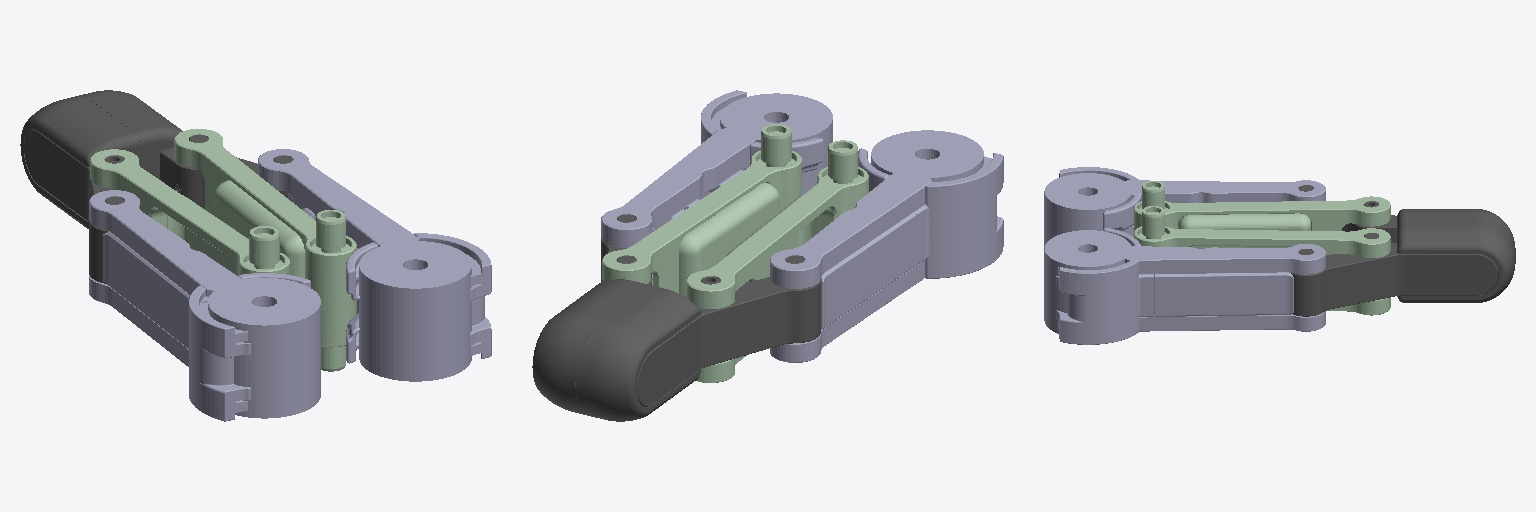
URDF robot description (ur5_rg2):
<?xml version="1.0" ?>
<!-- =================================================================================== -->
<!-- |    This document was autogenerated by xacro from ur.urdf.xacro                  | -->
<!-- |    EDITING THIS FILE BY HAND IS NOT RECOMMENDED                                 | -->
<!-- =================================================================================== -->
<robot name="ur5_rg2">
  <link name="base_link">
    <inertial>
      <mass value="0.0"/>
      <origin rpy="0 0 0" xyz="0 0 0"/>
      <inertia ixx="0.0" ixy="0.0" ixz="0.0" iyy="0.0" iyz="0.0" izz="0.0"/>
    </inertial>
  </link>
  <link name="base_link_inertia">
    <visual>
      <origin rpy="0 0 3.141592653589793" xyz="0 0 0"/>
      <geometry>
        <mesh filename="meshes/ur5/visual/base.obj"/>
      </geometry>
      <material name="LightGrey">
        <color rgba="0.7 0.7 0.7 1.0"/>
      </material>
    </visual>
    <collision>
      <origin rpy="0 0 3.141592653589793" xyz="0 0 0"/>
      <geometry>
        <mesh filename="meshes/ur5/collision/base.obj"/>
      </geometry>
    </collision>
    <inertial>
      <mass value="4.0"/>
      <origin rpy="0 0 0" xyz="0 0 0"/>
      <inertia ixx="0.00443333156" ixy="0.0" ixz="0.0" iyy="0.00443333156" iyz="0.0" izz="0.0072"/>
    </inertial>
  </link>
  <link name="shoulder_link">
    <visual>
      <origin rpy="0 0 3.141592653589793" xyz="0 0 0"/>
      <geometry>
        <mesh filename="meshes/ur5/visual/shoulder.obj"/>
      </geometry>
      <material name="LightBlue">
        <color rgba="0.7 0.7 0.8 1.0"/>
      </material>
    </visual>
    <collision>
      <origin rpy="0 0 3.141592653589793" xyz="0 0 0"/>
      <geometry>
        <mesh filename="meshes/ur5/collision/shoulder.obj"/>
      </geometry>
    </collision>
    <inertial>
      <mass value="3.7"/>
      <origin rpy="0 0 0" xyz="0 0 0"/>
      <inertia ixx="0.014972352344389999" ixy="0.0" ixz="0.0" iyy="0.014972352344389999" iyz="0.0" izz="0.01040625"/>
    </inertial>
  </link>
  <link name="upper_arm_link">
    <visual>
      <origin rpy="1.5707963267948966 0 -1.5707963267948966" xyz="0 0 0.13585"/>
      <geometry>
        <mesh filename="meshes/ur5/visual/upperarm.obj"/>
      </geometry>
      <material name="LightGreen">
        <color rgba="0.7 0.8 0.7 1.0"/>
      </material>
    </visual>
    <collision>
      <origin rpy="1.5707963267948966 0 -1.5707963267948966" xyz="0 0 0.13585"/>
      <geometry>
        <mesh filename="meshes/ur5/collision/upperarm.obj"/>
      </geometry>
    </collision>
    <inertial>
      <mass value="8.393"/>
      <origin rpy="0 1.5707963267948966 0" xyz="-0.2125 0.0 0.136"/>
      <inertia ixx="0.1338857818623325" ixy="0.0" ixz="0.0" iyy="0.1338857818623325" iyz="0.0" izz="0.0151074"/>
    </inertial>
  </link>
  <link name="forearm_link">
    <visual>
      <origin rpy="1.5707963267948966 0 -1.5707963267948966" xyz="0 0 0.0165"/>
      <geometry>
        <mesh filename="meshes/ur5/visual/forearm.obj"/>
      </geometry>
      <material name="LightRed">
        <color rgba="0.8 0.7 0.7 1.0"/>
      </material>
    </visual>
    <collision>
      <origin rpy="1.5707963267948966 0 -1.5707963267948966" xyz="0 0 0.0165"/>
      <geometry>
        <mesh filename="meshes/ur5/collision/forearm.obj"/>
      </geometry>
    </collision>
    <inertial>
      <mass value="2.275"/>
      <origin rpy="0 1.5707963267948966 0" xyz="-0.196125 0.0 0.0165"/>
      <inertia ixx="0.03121679102890359" ixy="0.0" ixz="0.0" iyy="0.03121679102890359" iyz="0.0" izz="0.004095"/>
    </inertial>
  </link>
  <link name="wrist_1_link">
    <visual>
      <origin rpy="1.5707963267948966 0 0" xyz="0 0 -0.093"/>
      <geometry>
        <mesh filename="meshes/ur5/visual/wrist1.obj"/>
      </geometry>
      <material name="LightGrey">
        <color rgba="0.7 0.7 0.7 1.0"/>
      </material>
    </visual>
    <collision>
      <origin rpy="1.5707963267948966 0 0" xyz="0 0 -0.093"/>
      <geometry>
        <mesh filename="meshes/ur5/collision/wrist1.obj"/>
      </geometry>
    </collision>
    <inertial>
      <mass value="1.219"/>
      <origin rpy="0 0 0" xyz="0 0 0"/>
      <inertia ixx="0.0020138887777775" ixy="0.0" ixz="0.0" iyy="0.0020138887777775" iyz="0.0" izz="0.0021942"/>
    </inertial>
  </link>
  <link name="wrist_2_link">
    <visual>
      <origin rpy="0 0 0" xyz="0 0 -0.095"/>
      <geometry>
        <mesh filename="meshes/ur5/visual/wrist2.obj"/>
      </geometry>
      <material name="LightBlue">
        <color rgba="0.7 0.7 0.8 1.0"/>
      </material>
    </visual>
    <collision>
      <origin rpy="0 0 0" xyz="0 0 -0.095"/>
      <geometry>
        <mesh filename="meshes/ur5/collision/wrist2.obj"/>
      </geometry>
    </collision>
    <inertial>
      <mass value="1.219"/>
      <origin rpy="0 0 0" xyz="0 0 0"/>
      <inertia ixx="0.0018310388509175" ixy="0.0" ixz="0.0" iyy="0.0018310388509175" iyz="0.0" izz="0.0021942"/>
    </inertial>
  </link>
  <link name="wrist_3_link">
    <visual>
      <origin rpy="1.5707963267948966 0 0" xyz="0 0 -0.0818"/>
      <geometry>
        <mesh filename="meshes/ur5/visual/wrist3.obj"/>
      </geometry>
      <material name="LightGreen">
        <color rgba="0.7 0.8 0.7 1.0"/>
      </material>
    </visual>
    <collision>
      <origin rpy="1.5707963267948966 0 0" xyz="0 0 -0.0818"/>
      <geometry>
        <mesh filename="meshes/ur5/collision/wrist3.obj"/>
      </geometry>
    </collision>
    <inertial>
      <mass value="0.1879"/>
      <origin rpy="0 0 0" xyz="0.0 0.0 -0.01525"/>
      <inertia ixx="8.062472608343e-05" ixy="0.0" ixz="0.0" iyy="8.062472608343e-05" iyz="0.0" izz="0.0001321171875"/>
    </inertial>
  </link>
  <!-- Gripper Links -->
  <material name="silver_default">
    <color rgba="0.700 0.700 0.700 1.000"/>
  </material>
  <material name="blue_default">
    <color rgba="0.700 0.700 0.800 1.000"/>
  </material>
  <material name="dark_default">
    <color rgba="0.400 0.400 0.400 1.000"/>
  </material>
  <material name="green_default">
    <color rgba="0.700 0.800 0.700 1.000"/>
  </material>
  <link name="base_link_rg2">
    <inertial>
      <origin rpy="0 0 0" xyz="-0.00033928396113482284 0.0001550803374992693 0.06397335096404132"/>
      <mass value="0.7151802197889529"/>
      <inertia ixx="0.001268" ixy="0.0" ixz="-1.2e-05" iyy="0.001154" iyz="3e-06" izz="0.000357"/>
    </inertial>
    <visual>
      <origin rpy="0 0 0" xyz="0 0 0"/>
      <geometry>
        <mesh filename="meshes/rg2_gripper/base_link.obj" scale="0.001 0.001 0.001"/>
      </geometry>
      <material name="silver_default"/>
    </visual>
    <collision>
      <origin rpy="0 0 0" xyz="0 0 0"/>
      <geometry>
        <mesh filename="meshes/rg2_gripper/base_link.obj" scale="0.001 0.001 0.001"/>
      </geometry>
    </collision>
  </link>
  <link name="left_outer_link_1">
    <inertial>
      <origin rpy="0 0 0" xyz="0.009999996523330909 0.0017814726549052681 0.012228209292930586"/>
      <mass value="0.03836739327168093"/>
      <inertia ixx="1.4e-05" ixy="0.0" ixz="0.0" iyy="1.4e-05" iyz="-0.0" izz="3e-06"/>
    </inertial>
    <visual>
      <origin rpy="0 0 0" xyz="0.0103 -0.01705 -0.12275"/>
      <geometry>
        <mesh filename="meshes/rg2_gripper/left_outer_link_1.obj" scale="0.001 0.001 0.001"/>
      </geometry>
      <material name="blue_default"/>
    </visual>
    <collision>
      <origin rpy="0 0 0" xyz="0.0103 -0.01705 -0.12275"/>
      <geometry>
        <mesh filename="meshes/rg2_gripper/left_outer_link_1.obj" scale="0.001 0.001 0.001"/>
      </geometry>
    </collision>
  </link>
  <link name="left_finger_link_1">
    <inertial>
      <origin rpy="0 0 0" xyz="0.010012780774690653 -0.010687647568749598 0.027402616106703998"/>
      <mass value="0.02483517715757534"/>
      <inertia ixx="7e-06" ixy="-0.0" ixz="0.0" iyy="6e-06" iyz="2e-06" izz="1e-06"/>
    </inertial>
    <visual>
      <origin rpy="0 0 0" xyz="0.0103 -0.01902 -0.177715"/>
      <geometry>
        <mesh filename="meshes/rg2_gripper/left_finger_link_1.obj" scale="0.001 0.001 0.001"/>
      </geometry>
      <material name="dark_default"/>
    </visual>
    <collision>
      <origin rpy="0 0 0" xyz="0.0103 -0.01902 -0.177715"/>
      <geometry>
        <mesh filename="meshes/rg2_gripper/left_finger_link_1.obj" scale="0.001 0.001 0.001"/>
      </geometry>
    </collision>
  </link>
  <link name="left_inner_link_1">
    <inertial>
      <origin rpy="0 0 0" xyz="0.010005296596915006 -0.0016937268392717038 -0.03516232888579532"/>
      <mass value="0.012641568013611078"/>
      <inertia ixx="5e-06" ixy="0.0" ixz="-0.0" iyy="6e-06" iyz="-0.0" izz="1e-06"/>
    </inertial>
    <visual>
      <origin rpy="0 0 0" xyz="0.0103 -0.00952 -0.194215"/>
      <geometry>
        <mesh filename="meshes/rg2_gripper/left_inner_link_1.obj" scale="0.001 0.001 0.001"/>
      </geometry>
      <material name="green_default"/>
    </visual>
    <collision>
      <origin rpy="0 0 0" xyz="0.0103 -0.00952 -0.194215"/>
      <geometry>
        <mesh filename="meshes/rg2_gripper/left_inner_link_1.obj" scale="0.001 0.001 0.001"/>
      </geometry>
    </collision>
  </link>
  <link name="right_outer_link_1">
    <inertial>
      <origin rpy="0 0 0" xyz="0.010000003486636795 -0.0017814726548893677 0.012228209293019432"/>
      <mass value="0.03836739327185006"/>
      <inertia ixx="1.4e-05" ixy="0.0" ixz="-0.0" iyy="1.4e-05" iyz="0.0" izz="3e-06"/>
    </inertial>
    <visual>
      <origin rpy="0 0 0" xyz="0.0103 0.01695 -0.12275"/>
      <geometry>
        <mesh filename="meshes/rg2_gripper/right_outer_link_1.obj" scale="0.001 0.001 0.001"/>
      </geometry>
      <material name="blue_default"/>
    </visual>
    <collision>
      <origin rpy="0 0 0" xyz="0.0103 0.01695 -0.12275"/>
      <geometry>
        <mesh filename="meshes/rg2_gripper/right_outer_link_1.obj" scale="0.001 0.001 0.001"/>
      </geometry>
    </collision>
  </link>
  <link name="right_finger_link_1">
    <inertial>
      <origin rpy="0 0 0" xyz="0.009987219235276384 0.010687647568778226 0.02740261610670347"/>
      <mass value="0.02483517715757534"/>
      <inertia ixx="7e-06" ixy="-0.0" ixz="-0.0" iyy="6e-06" iyz="-2e-06" izz="1e-06"/>
    </inertial>
    <visual>
      <origin rpy="0 0 0" xyz="0.0103 0.01892 -0.177715"/>
      <geometry>
        <mesh filename="meshes/rg2_gripper/right_finger_link_1.obj" scale="0.001 0.001 0.001"/>
      </geometry>
      <material name="dark_default"/>
    </visual>
    <collision>
      <origin rpy="0 0 0" xyz="0.0103 0.01892 -0.177715"/>
      <geometry>
        <mesh filename="meshes/rg2_gripper/right_finger_link_1.obj" scale="0.001 0.001 0.001"/>
      </geometry>
    </collision>
  </link>
  <link name="right_inner_link_1">
    <inertial>
      <origin rpy="0 0 0" xyz="0.00999470341305246 0.001693726839305438 -0.035162328885795485"/>
      <mass value="0.012641568013611078"/>
      <inertia ixx="5e-06" ixy="0.0" ixz="0.0" iyy="6e-06" iyz="0.0" izz="1e-06"/>
    </inertial>
    <visual>
      <origin rpy="0 0 0" xyz="0.0103 0.00942 -0.194215"/>
      <geometry>
        <mesh filename="meshes/rg2_gripper/right_inner_link_1.obj" scale="0.001 0.001 0.001"/>
      </geometry>
      <material name="green_default"/>
    </visual>
    <collision>
      <origin rpy="0 0 0" xyz="0.0103 0.00942 -0.194215"/>
      <geometry>
        <mesh filename="meshes/rg2_gripper/right_inner_link_1.obj" scale="0.001 0.001 0.001"/>
      </geometry>
    </collision>
  </link>
  <!-- joints - main serial chain -->
  <joint name="base_link-base_link_inertia" type="fixed">
    <parent link="base_link"/>
    <child link="base_link_inertia"/>
    <!-- 'base_link' is REP-103 aligned (so X+ forward), while the internal
           frames of the robot/controller have X+ pointing backwards.
           Use the joint between 'base_link' and 'base_link_inertia' (a dummy
           link/frame) to introduce the necessary rotation over Z (of pi rad).
      -->
    <origin rpy="0 0 3.141592653589793" xyz="0 0 0"/>
  </joint>
  <joint name="shoulder_pan_joint" type="revolute">
    <parent link="base_link_inertia"/>
    <child link="shoulder_link"/>
    <origin rpy="0 0 0" xyz="0 0 0.089159"/>
    <axis xyz="0 0 1"/>
    <limit effort="150.0" lower="-6.283185307179586" upper="6.283185307179586" velocity="3.141592653589793"/>
    <dynamics damping="0" friction="0"/>
  </joint>
  <joint name="shoulder_lift_joint" type="revolute">
    <parent link="shoulder_link"/>
    <child link="upper_arm_link"/>
    <origin rpy="1.570796327 0 0" xyz="0 0 0"/>
    <axis xyz="0 0 1"/>
    <limit effort="150.0" lower="-6.283185307179586" upper="6.283185307179586" velocity="3.141592653589793"/>
    <dynamics damping="0" friction="0"/>
  </joint>
  <joint name="elbow_joint" type="revolute">
    <parent link="upper_arm_link"/>
    <child link="forearm_link"/>
    <origin rpy="0 0 0" xyz="-0.425 0 0"/>
    <axis xyz="0 0 1"/>
    <limit effort="150.0" lower="-3.141592653589793" upper="3.141592653589793" velocity="3.141592653589793"/>
    <dynamics damping="0" friction="0"/>
  </joint>
  <joint name="wrist_1_joint" type="revolute">
    <parent link="forearm_link"/>
    <child link="wrist_1_link"/>
    <origin rpy="0 0 0" xyz="-0.39225 0 0.10915"/>
    <axis xyz="0 0 1"/>
    <limit effort="28.0" lower="-6.283185307179586" upper="6.283185307179586" velocity="3.141592653589793"/>
    <dynamics damping="0" friction="0"/>
  </joint>
  <joint name="wrist_2_joint" type="revolute">
    <parent link="wrist_1_link"/>
    <child link="wrist_2_link"/>
    <origin rpy="1.570796327 0 0" xyz="0 -0.09465 -1.941303950897609e-11"/>
    <axis xyz="0 0 1"/>
    <limit effort="28.0" lower="-6.283185307179586" upper="6.283185307179586" velocity="3.141592653589793"/>
    <dynamics damping="0" friction="0"/>
  </joint>
  <joint name="wrist_3_joint" type="revolute">
    <parent link="wrist_2_link"/>
    <child link="wrist_3_link"/>
    <origin rpy="1.570796326589793 3.141592653589793 3.141592653589793" xyz="0 0.0823 -1.688001216681175e-11"/>
    <axis xyz="0 0 1"/>
    <limit effort="28.0" lower="-6.283185307179586" upper="6.283185307179586" velocity="3.141592653589793"/>
    <dynamics damping="0" friction="0"/>
  </joint>
  <!-- Gripper Joints -->
  <joint name="wrist_3-gr2" type="fixed">
    <parent link="wrist_3_link"/>
    <child link="base_link_rg2"/>
    <axis xyz="0 0 1"/>
    <origin rpy="0 0 +1.5707963267948966" xyz="0 0 0"/>
    <limit effor="28.0" lower="-6.283185307179586" upper="6.283185307179586" velocity="3.141592653589793"/>
    <dynamics damping="0" friction="0"/>
  </joint>
  <joint name="Rev33" type="revolute">
    <origin rpy="0 0 0" xyz="-0.0103 0.01705 0.12275"/>
    <parent link="base_link_rg2"/>
    <child link="left_outer_link_1"/>
    <axis xyz="-1.0 0.0 0.0"/>
    <limit effort="100" lower="0.0" upper="1.343904" velocity="100"/>
  </joint>
  <joint name="Rev29" type="revolute">
    <origin rpy="0 0 0" xyz="0.0 0.00197 0.054965"/>
    <parent link="left_outer_link_1"/>
    <child link="left_finger_link_1"/>
    <axis xyz="1.0 -0.0 -0.0"/>
    <limit effort="200" lower="0.0" upper="1.343904" velocity="100"/>
  </joint>
  <joint name="Rev30" type="revolute">
    <origin rpy="0 0 0" xyz="0.0 -0.0095 0.0165"/>
    <parent link="left_finger_link_1"/>
    <child link="left_inner_link_1"/>
    <axis xyz="-1.0 -0.0 -0.0"/>
    <limit effort="200" lower="0.0" upper="1.343904" velocity="100"/>
  </joint>
  <joint name="Rev28" type="revolute">
    <origin rpy="0 0 0" xyz="-0.0103 -0.01695 0.12275"/>
    <parent link="base_link_rg2"/>
    <child link="right_outer_link_1"/>
    <axis xyz="1.0 0.0 0.0"/>
    <limit effort="100" lower="0.0" upper="1.343904" velocity="100"/>
  </joint>
  <joint name="Rev34" type="revolute">
    <origin rpy="0 0 0" xyz="0.0 -0.00197 0.054965"/>
    <parent link="right_outer_link_1"/>
    <child link="right_finger_link_1"/>
    <axis xyz="-1.0 -0.0 -0.0"/>
    <limit effort="200" lower="0.0" upper="1.343904" velocity="100"/>
  </joint>
  <joint name="Rev35" type="revolute">
    <origin rpy="0 0 0" xyz="0.0 0.0095 0.0165"/>
    <parent link="right_finger_link_1"/>
    <child link="right_inner_link_1"/>
    <axis xyz="1.0 0.0 -0.0"/>
    <limit effort="200" lower="0.0" upper="1.343904" velocity="100"/>
  </joint>
</robot>

--- Facts derived from the render (not from the file) ---
Views: 3 orthographic renders of the robot side by side, from view 1: azimuth 30°, elevation 25°; view 2: azimuth 150°, elevation 25°; view 3: azimuth 270°, elevation 25°.
Robot: ur5_rg2 — 15 links, 14 joints (12 revolute, 2 fixed); root link base_link; default pose: every joint at zero.
Visible links, largest first — view 1: right_outer_link_1, left_outer_link_1, left_inner_link_1, right_finger_link_1, right_inner_link_1, left_finger_link_1; view 2: right_outer_link_1, right_finger_link_1, left_outer_link_1, left_inner_link_1, right_inner_link_1, left_finger_link_1; view 3: left_outer_link_1, left_finger_link_1, right_outer_link_1, right_inner_link_1, left_inner_link_1, right_finger_link_1.
Link boxes in pixels (bbox=[...]): right_outer_link_1: bbox=[89, 190, 320, 421]; left_outer_link_1: bbox=[258, 149, 491, 381]; left_inner_link_1: bbox=[174, 129, 356, 371]; right_finger_link_1: bbox=[20, 96, 139, 283]; right_inner_link_1: bbox=[90, 149, 289, 275]; left_finger_link_1: bbox=[79, 90, 292, 208]; right_outer_link_1: bbox=[770, 130, 1003, 362]; right_finger_link_1: bbox=[576, 256, 820, 421]; left_outer_link_1: bbox=[601, 90, 832, 285]; left_inner_link_1: bbox=[602, 124, 801, 296]; right_inner_link_1: bbox=[686, 140, 868, 382]; left_finger_link_1: bbox=[532, 215, 651, 415]; left_outer_link_1: bbox=[1044, 228, 1325, 344]; left_finger_link_1: bbox=[1291, 220, 1515, 316]; right_outer_link_1: bbox=[1044, 167, 1325, 248]; right_inner_link_1: bbox=[1134, 181, 1390, 230]; left_inner_link_1: bbox=[1134, 206, 1390, 315]; right_finger_link_1: bbox=[1299, 185, 1515, 253].
Size in the robot's own frame: 0.0636 by 0.1188 by 0.0322 metres.
6 mesh visuals loaded from 14 distinct referenced files (6 OBJ); not drawn: 8 (reference not matched to a file when rendering).